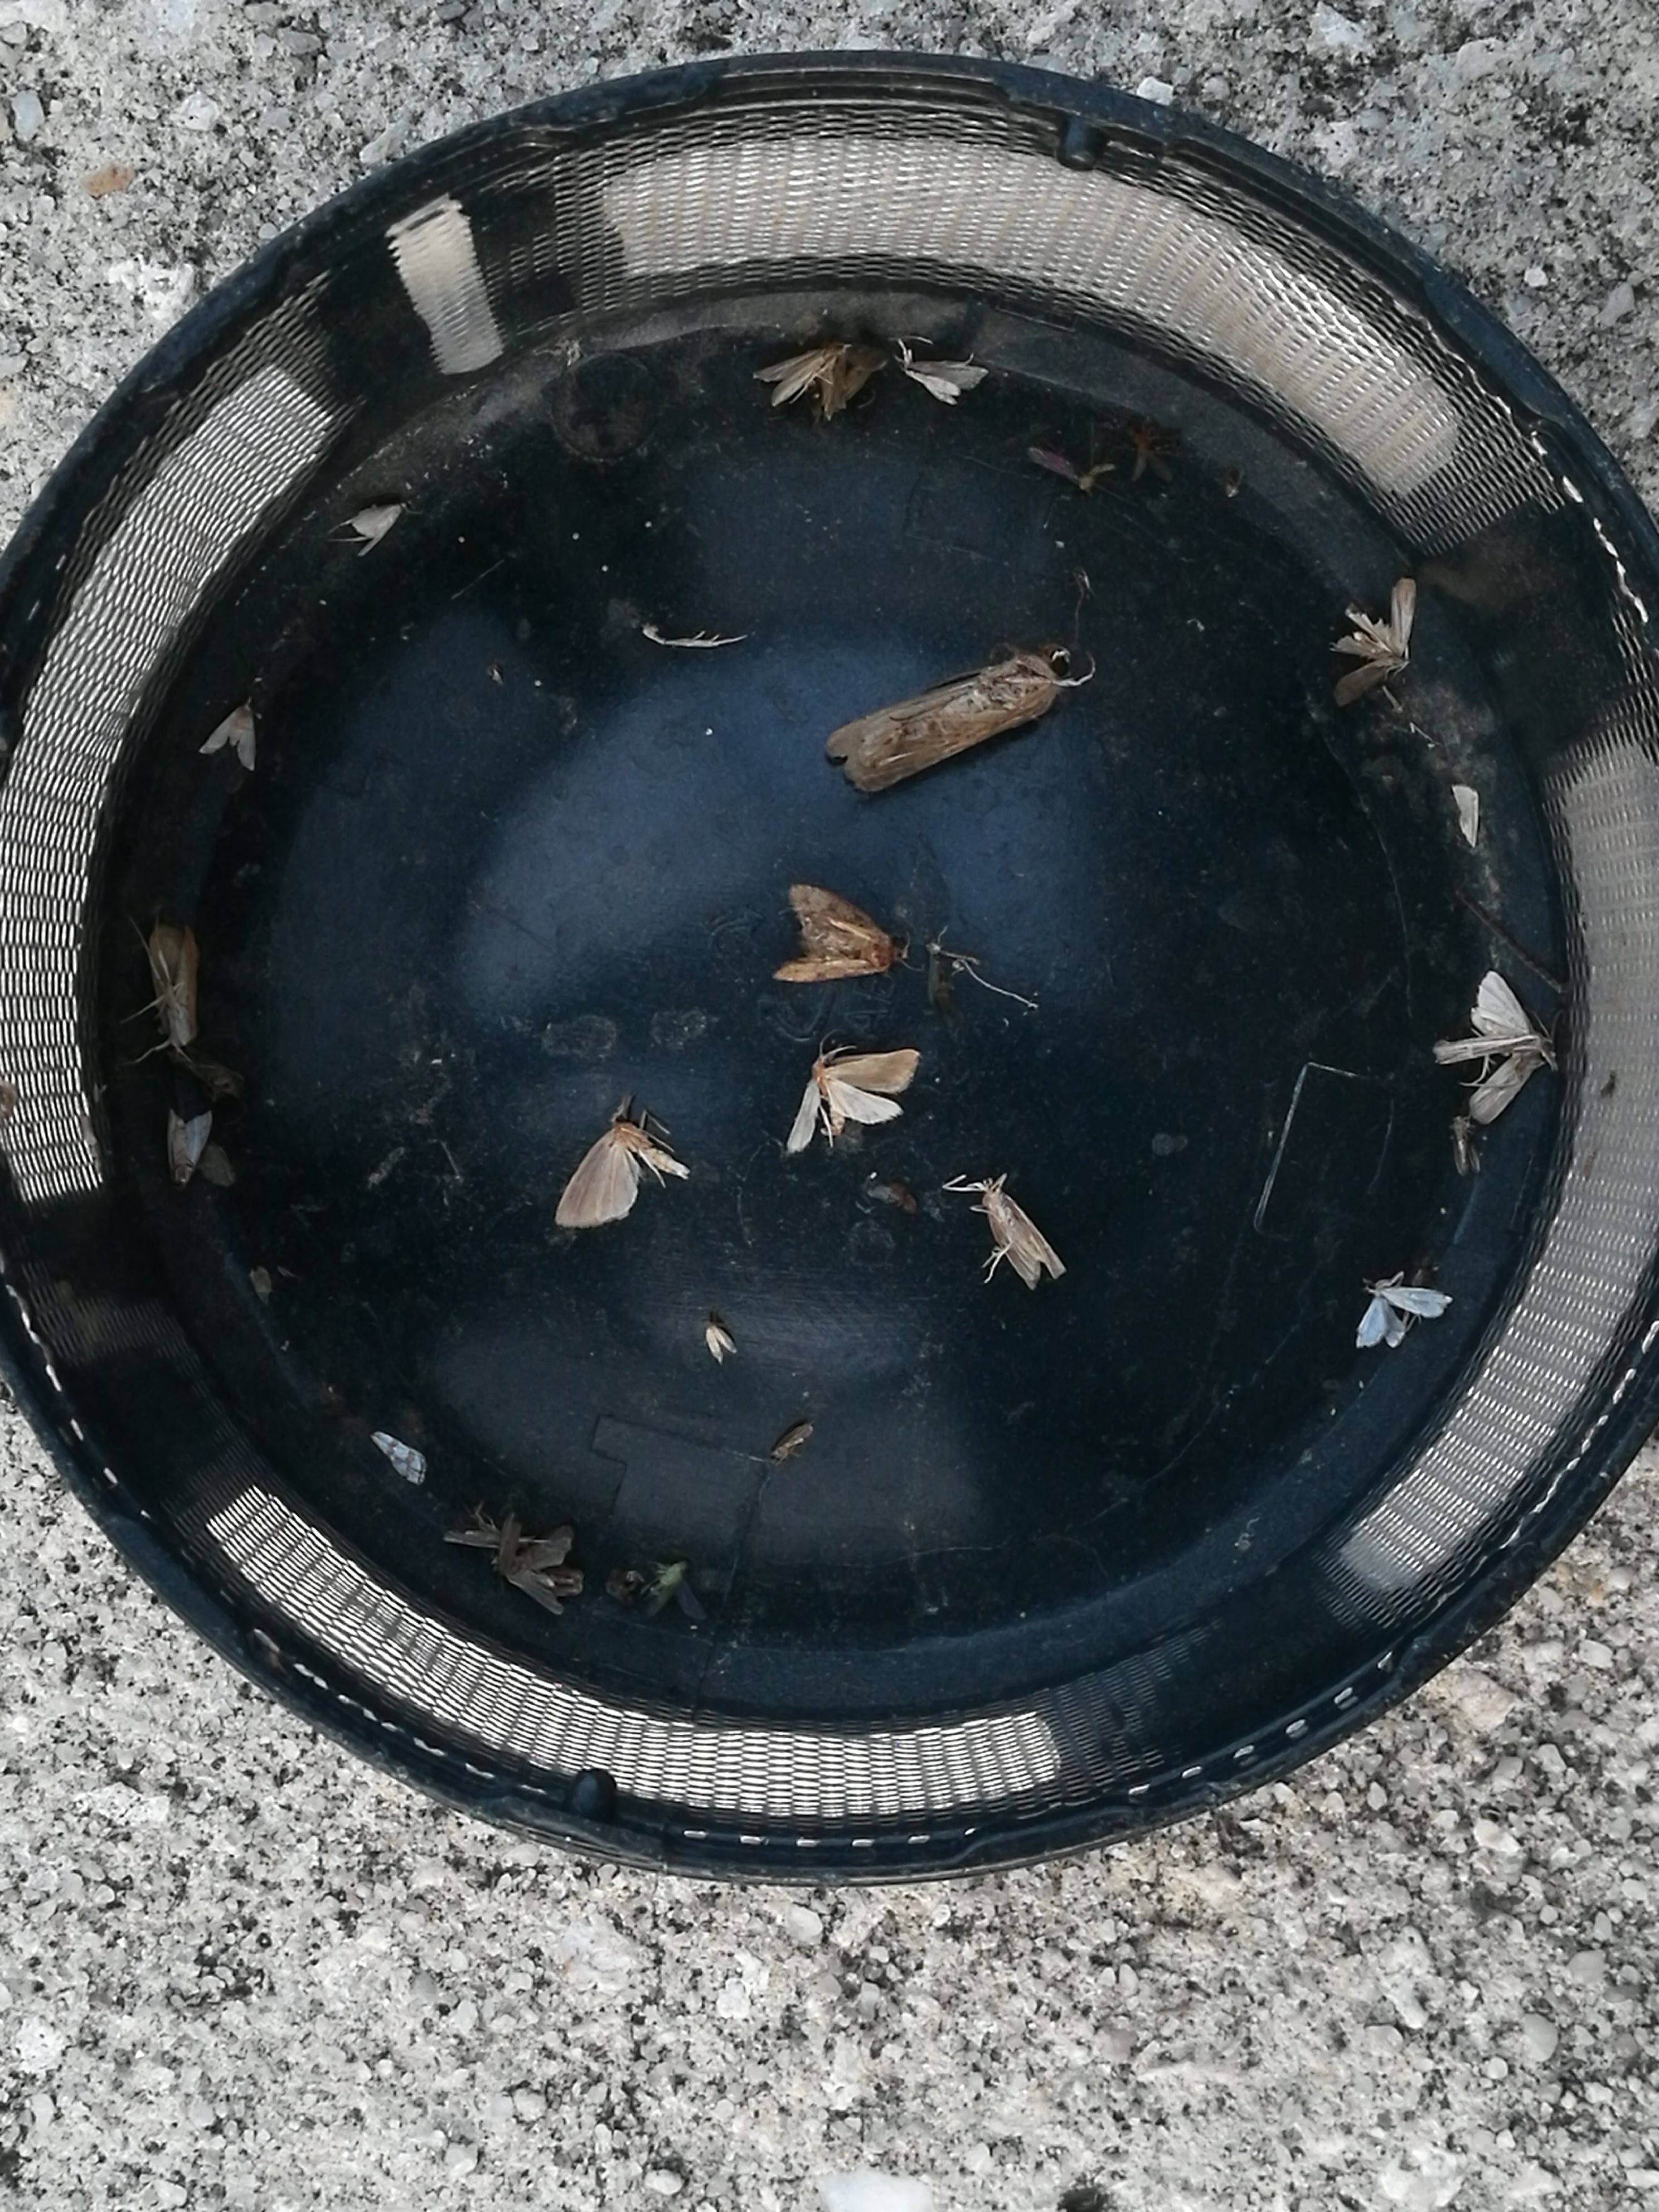mosquito: (150, 923, 195, 1045)
moth: (826, 651, 1070, 787), (1438, 972, 1537, 1116), (559, 1120, 692, 1226), (791, 1049, 918, 1146), (1323, 580, 1417, 705), (777, 883, 896, 979), (753, 348, 887, 415), (498, 1517, 577, 1609), (1358, 1284, 1448, 1350), (206, 700, 256, 772), (166, 1113, 213, 1186), (908, 355, 983, 401), (349, 502, 404, 543)
